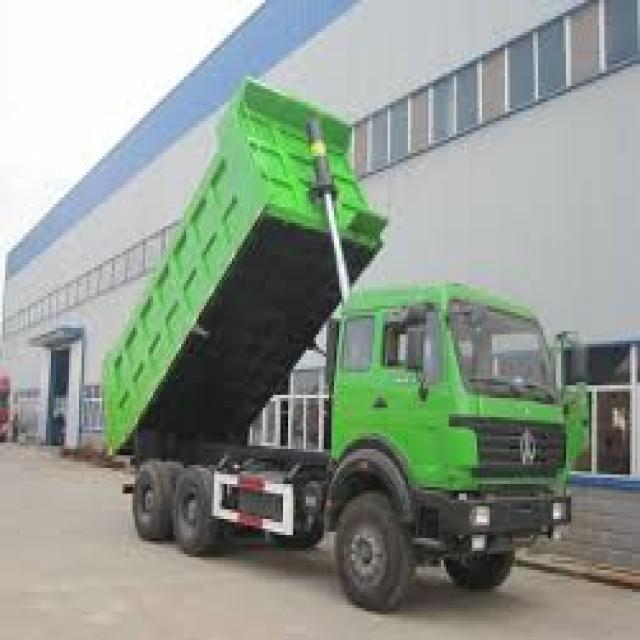machinery: (105, 84, 577, 611)
